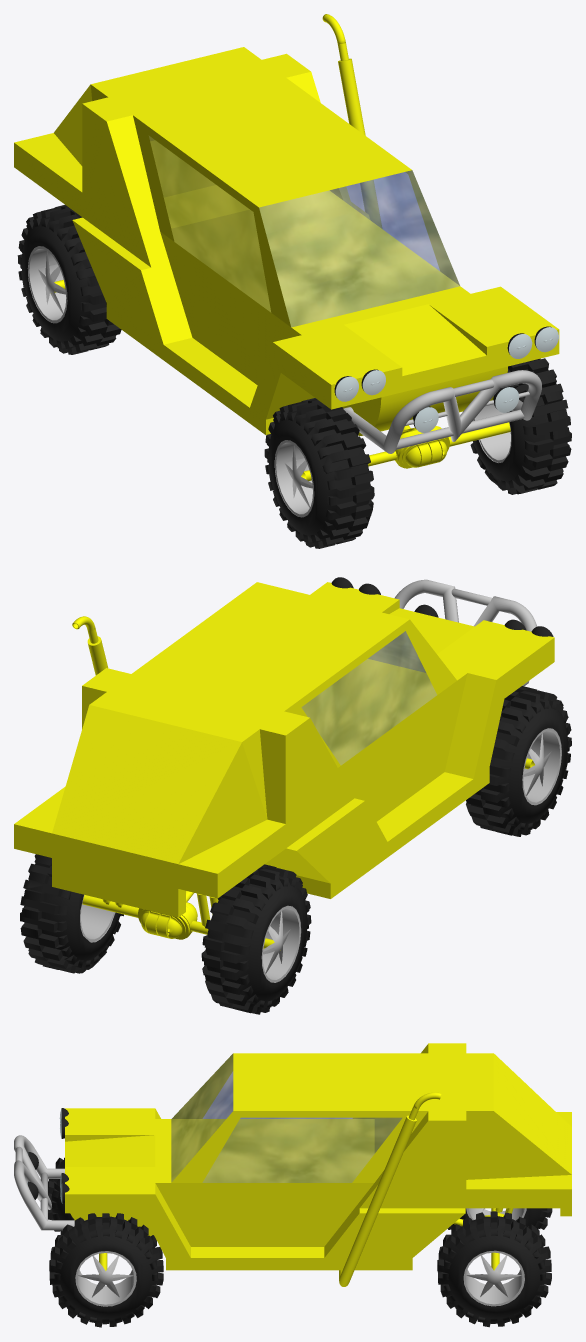
3 views of the same model, one above another, from view 1: azimuth 30°, elevation 25°; view 2: azimuth 150°, elevation 25°; view 3: azimuth 270°, elevation 25° (orthographic). The views are drawn at different scales.
Parts seen in each view (by area): view 1: Group1, Model, ske79_3, ske79_1, ske79_2, ske7A1; view 2: Group1, ske79_1, ske79_3, Model, ske79_4, ske7A1; view 3: Group1, Model, ske79_4, ske79_2, ske7A1, ske79_1, ske79_3.
Part boxes in pixels (x1,y1,x2,y2): Group1: (14,14,559,480); Model: (149,136,459,326); ske79_3: (264,398,374,548); ske79_1: (17,205,121,354); ske79_2: (470,358,571,494); ske7A1: (343,370,541,453); Group1: (14,582,554,950); ske79_1: (201,864,311,1014); ske79_3: (466,686,571,836); Model: (301,631,436,765); ske79_4: (20,854,123,973); ske7A1: (394,579,536,686); Group1: (65,1043,571,1286); Model: (171,1054,401,1182); ske79_4: (437,1211,551,1327); ske79_2: (49,1213,163,1327); ske7A1: (14,1135,84,1230); ske79_1: (447,1208,552,1235); ske79_3: (48,1157,74,1234).
Size of the model in its own units: 3166 by 3688 by 7722.
